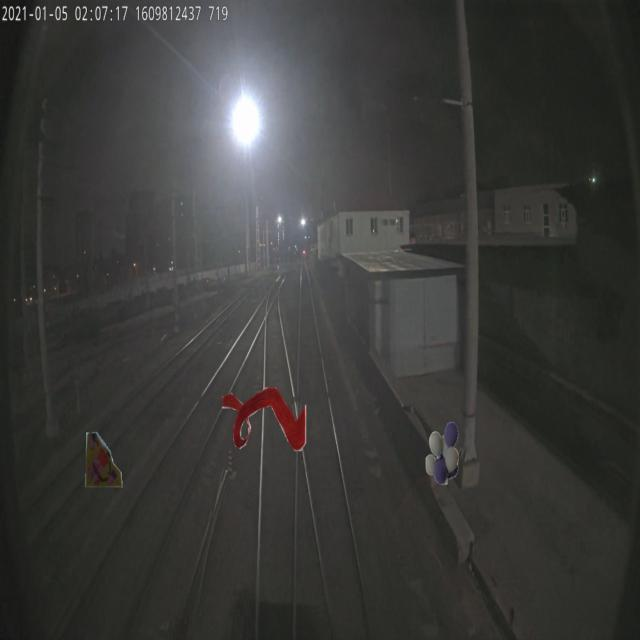balloon: (425, 420, 459, 484)
floating object: (223, 387, 306, 451), (84, 428, 122, 492)
